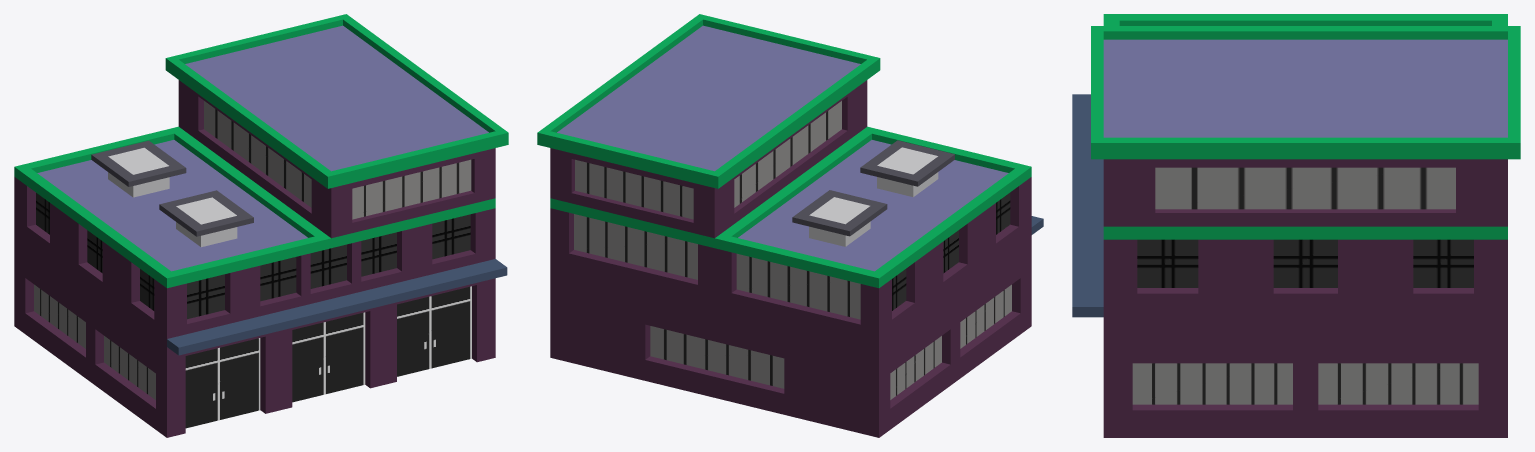
The model's file is building10c.FBX.
The picture shows the model from 3 angles, left to right: view 1: azimuth 30°, elevation 25°; view 2: azimuth 150°, elevation 25°; view 3: azimuth 270°, elevation 25°; orthographic projection. The views are drawn at different scales.
Parts seen in each view (by area): view 1: building10c; view 2: building10c; view 3: building10c.
Part boxes in pixels (x1,y1,x2,y2): building10c: (14, 14, 508, 437); building10c: (537, 14, 1043, 437); building10c: (1072, 14, 1520, 437).
Bounding box in the file's own units: 20.62 × 13.25 × 17.93.
